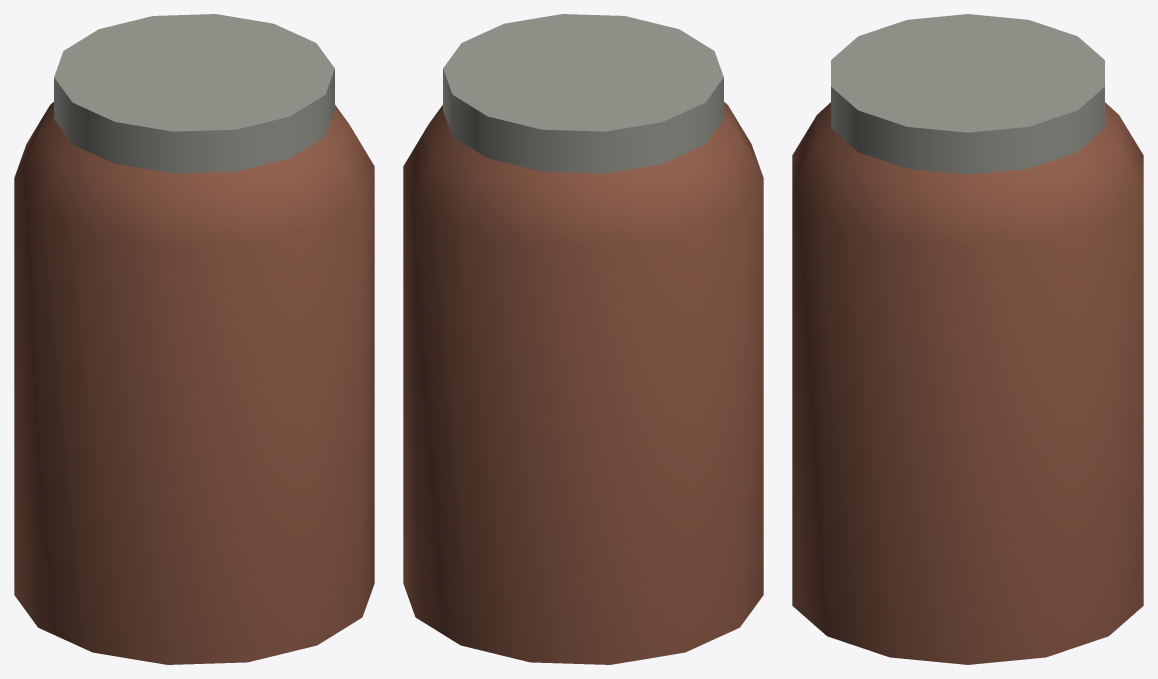
Rendered from tpl_dispensa_vaso_m_fagioli.glb.
The picture shows the model from 3 angles, left to right: view 1: azimuth 30°, elevation 25°; view 2: azimuth 150°, elevation 25°; view 3: azimuth 270°, elevation 25°; orthographic projection.
Parts seen in each view (by area): view 1: tpl_dispensa_vaso_m_fagioli; view 2: tpl_dispensa_vaso_m_fagioli; view 3: tpl_dispensa_vaso_m_fagioli.
Part boxes in pixels (x1,y1,x2,y2): tpl_dispensa_vaso_m_fagioli: (14,14,374,664); tpl_dispensa_vaso_m_fagioli: (403,14,763,664); tpl_dispensa_vaso_m_fagioli: (792,14,1143,664).
Size of the model in its own units: 0.11 by 0.1737 by 0.1072.
